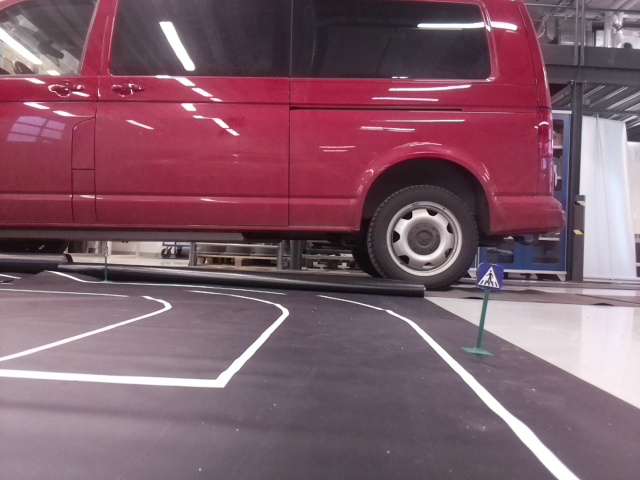Crosswalk: (477, 263, 500, 288)
